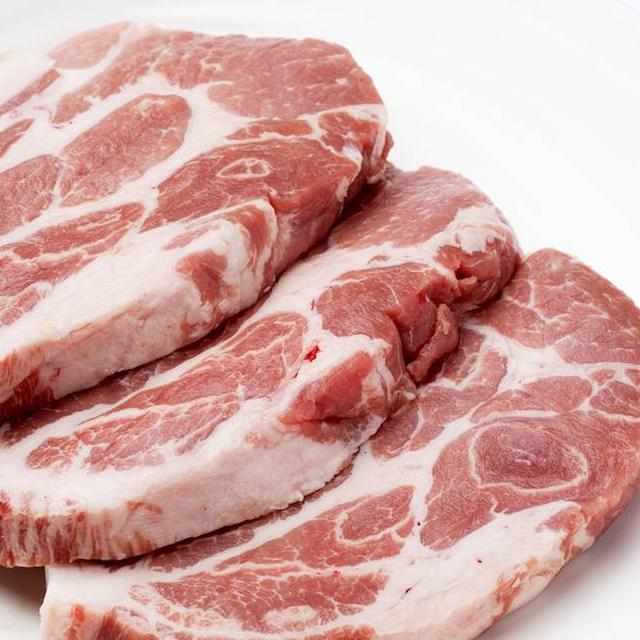beef: (34, 244, 640, 640), (0, 163, 519, 564), (0, 14, 394, 434)
